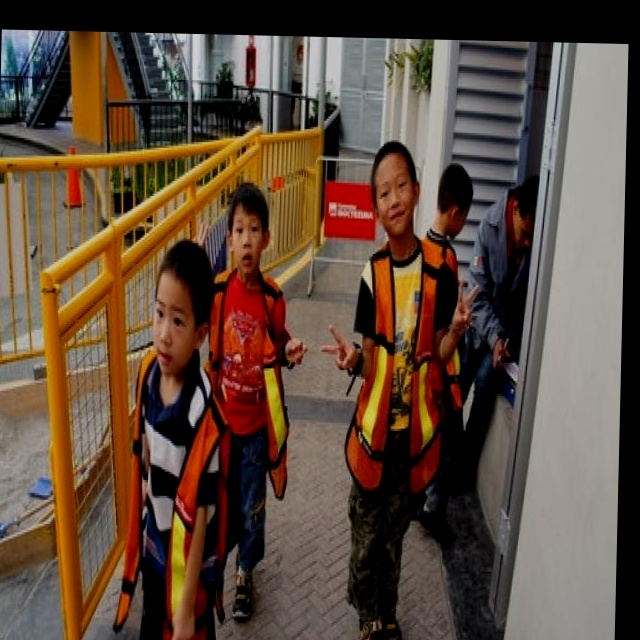Con_Casco: (227, 183, 268, 274)
Con_Chaleco: (125, 346, 222, 622), (358, 239, 448, 488)
